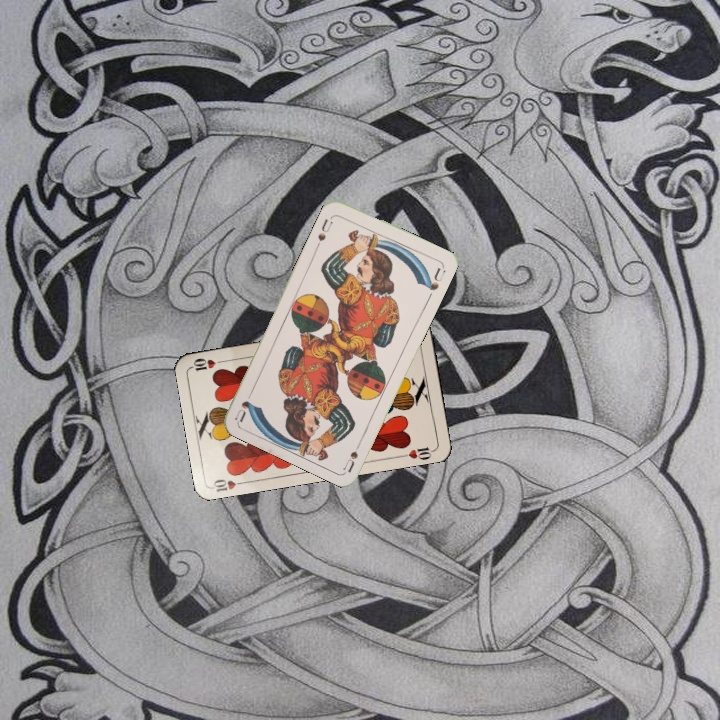H10: (209, 475, 249, 494)
SU: (339, 434, 365, 474), (314, 215, 336, 244)
